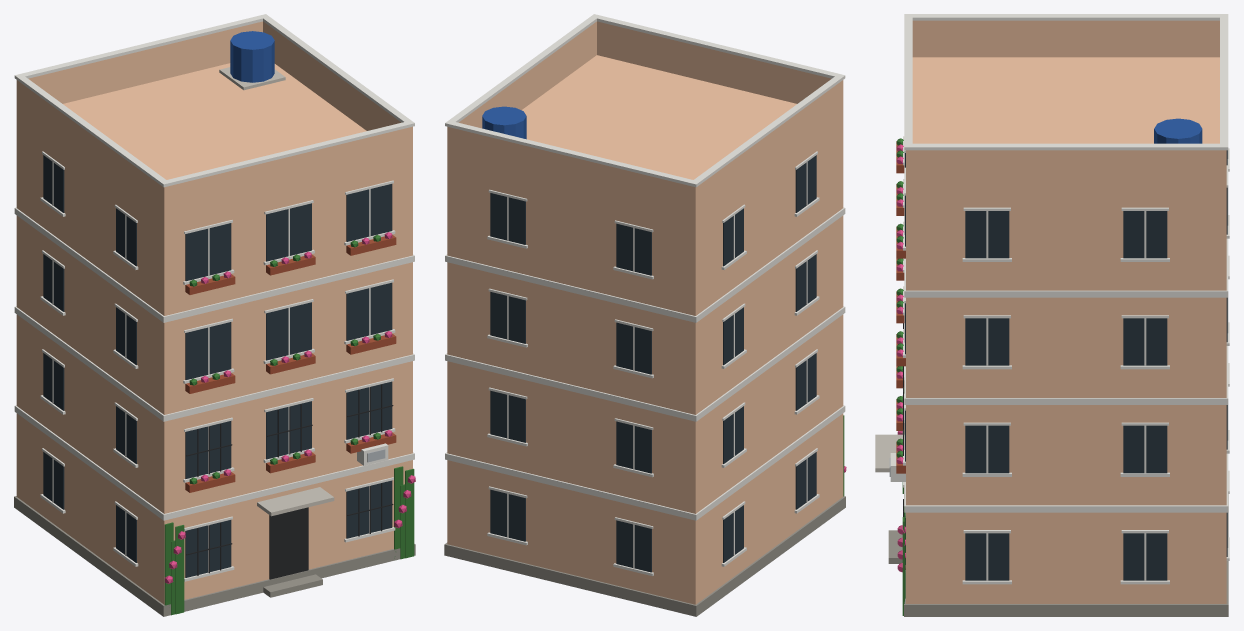
Rendered from BAY_F_Tower_P.glb.
3 views of the same model, side by side, from view 1: azimuth 30°, elevation 25°; view 2: azimuth 150°, elevation 25°; view 3: azimuth 270°, elevation 25° (orthographic). The views are drawn at different scales.
Parts seen in each view (by area): view 1: BAY_F_Tower_P; view 2: BAY_F_Tower_P; view 3: BAY_F_Tower_P.
Part boxes in pixels (left/top/right/bottom): BAY_F_Tower_P: left=14, top=14, right=415, bottom=616; BAY_F_Tower_P: left=444, top=14, right=846, bottom=616; BAY_F_Tower_P: left=875, top=14, right=1229, bottom=616.
Bounding box in the file's own units: 7.24 × 11.8 × 8.07.
Materials: 1 (1 with a texture image).
